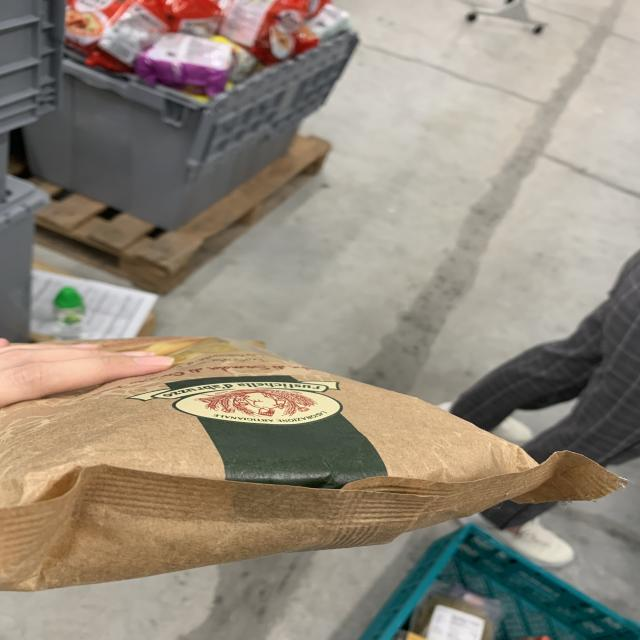object_name: (9, 355, 528, 550)
